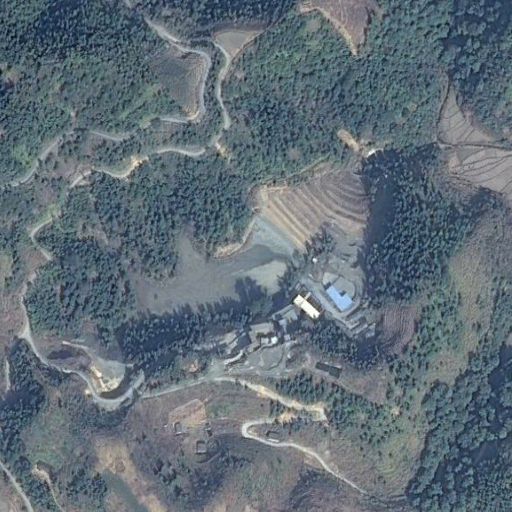tp: (127, 172, 377, 325)
